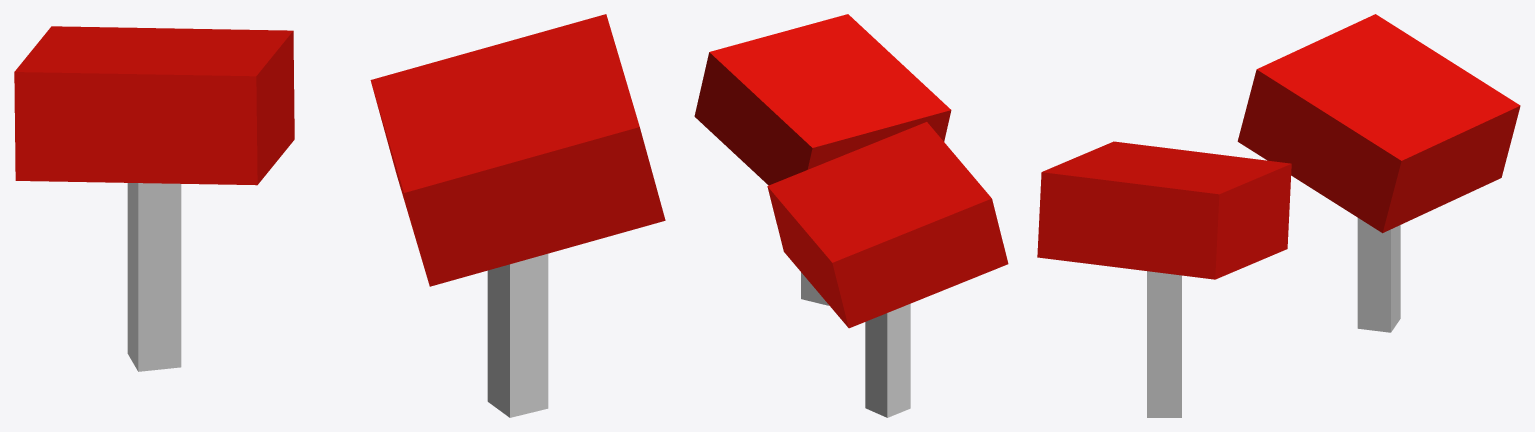
The model's file is mushrooms.fbx.
3 renders of one model, left to right at view 1: azimuth 30°, elevation 25°; view 2: azimuth 150°, elevation 25°; view 3: azimuth 270°, elevation 25°, orthographic. The views are drawn at different scales.
Visible parts, largest first — view 1: Cube; view 2: Cube; view 3: Cube.
Part boxes in pixels (left/top/right/bottom): Cube: left=14, top=14, right=665, bottom=417; Cube: left=694, top=14, right=1008, bottom=417; Cube: left=1037, top=14, right=1520, bottom=417.
Bounding box in the file's own units: 124 × 75.79 × 126.
